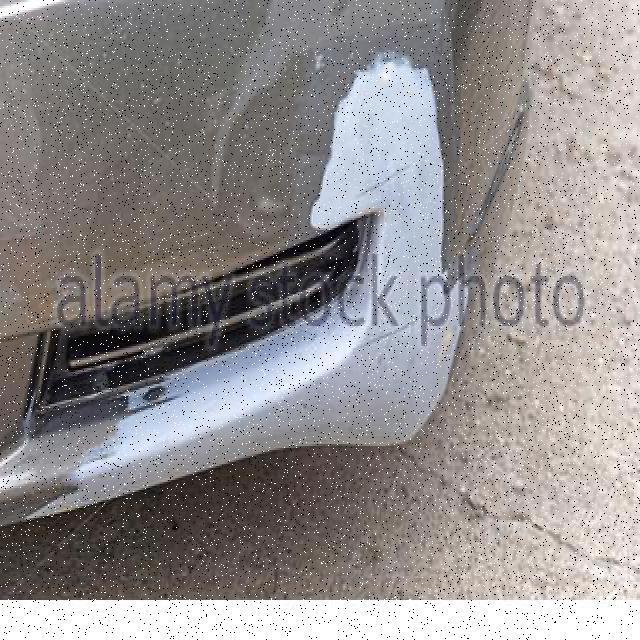car damage: (0, 0, 562, 522)
